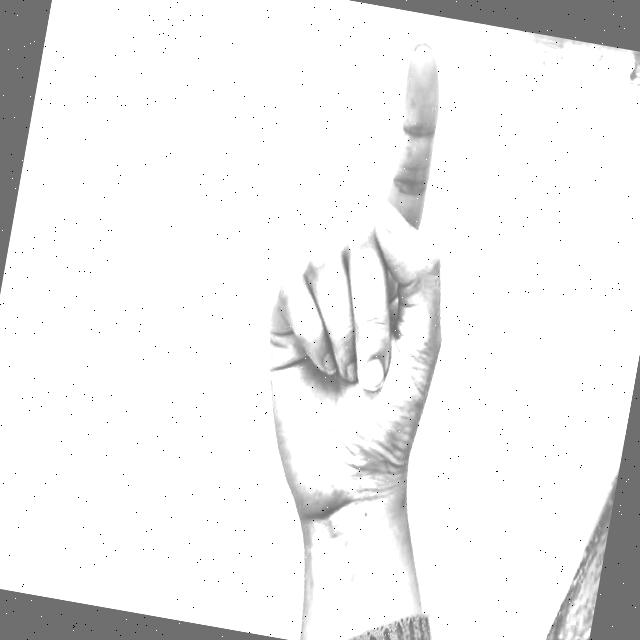U: (218, 7, 510, 570)
